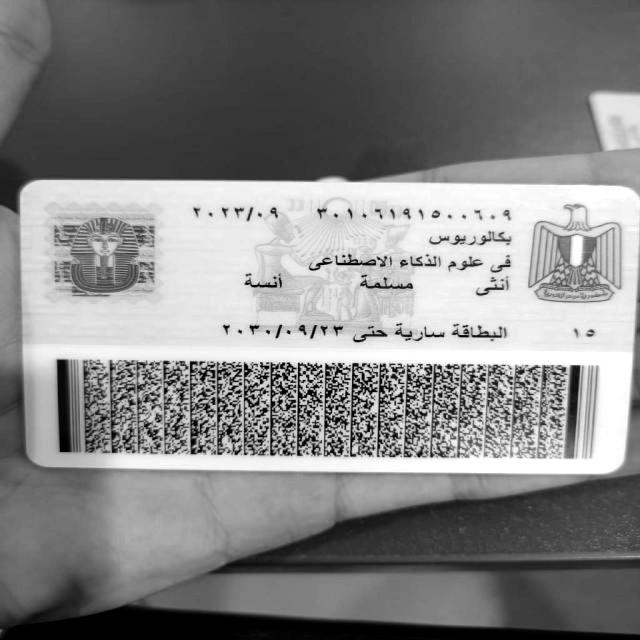back: (18, 179, 639, 474)
